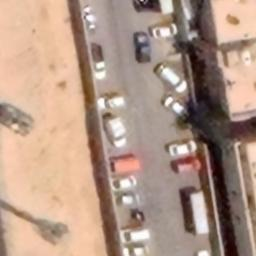others: (180, 186, 214, 241)
pickup: (130, 30, 154, 66)
sedan: (162, 92, 188, 120), (108, 176, 138, 191)
truck: (84, 40, 112, 82), (103, 116, 131, 150)
unknown: (91, 92, 129, 112)
van: (154, 61, 192, 98), (112, 226, 153, 244), (165, 138, 201, 158), (170, 156, 205, 176), (147, 21, 183, 40), (114, 192, 142, 206)
